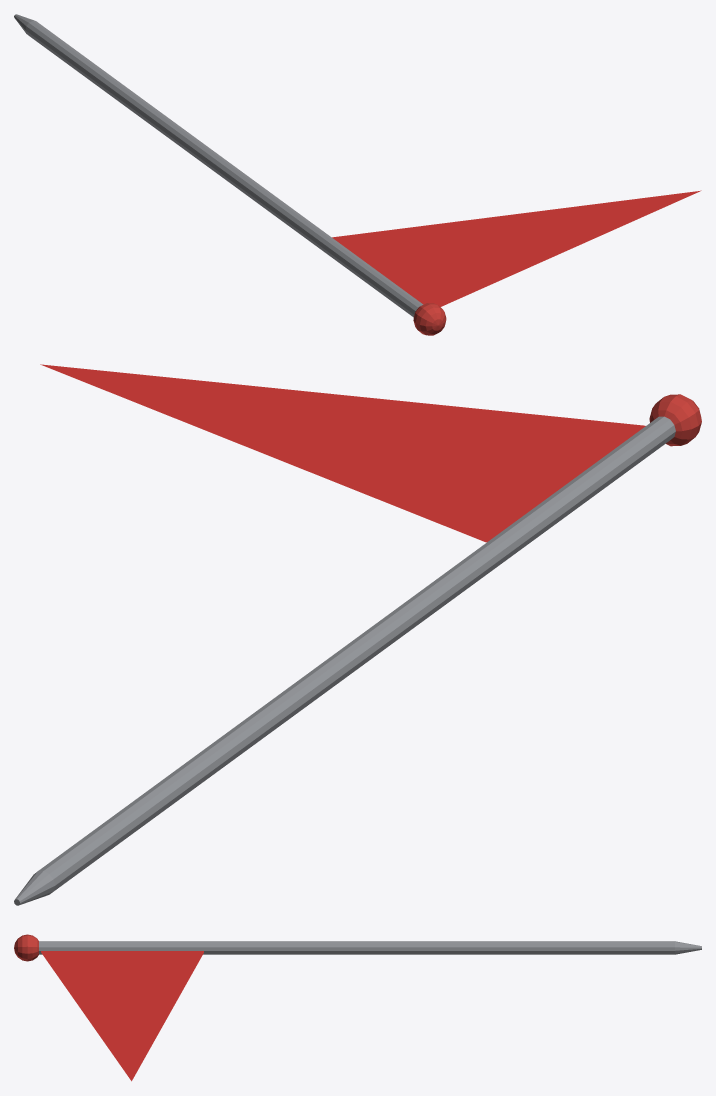
Rendered from FLAG.glb.
3 renders of one model, top to bottom at view 1: azimuth 30°, elevation 25°; view 2: azimuth 150°, elevation 25°; view 3: azimuth 270°, elevation 25°, orthographic. The views are drawn at different scales.
Visible parts, largest first — view 1: FLAG_pennant, FLAG_shaft, FLAG_cap; view 2: FLAG_pennant, FLAG_shaft, FLAG_cap, FLAG_tip; view 3: FLAG_pennant, FLAG_shaft, FLAG_cap.
Part boxes in pixels (x1,y1,x2,y2): FLAG_pennant: [332, 190, 701, 306]; FLAG_shaft: [25, 21, 423, 317]; FLAG_cap: [413, 303, 446, 335]; FLAG_pennant: [40, 364, 645, 542]; FLAG_shaft: [38, 416, 675, 892]; FLAG_cap: [649, 394, 701, 446]; FLAG_tip: [14, 871, 54, 905]; FLAG_pennant: [41, 951, 203, 1081]; FLAG_shaft: [39, 941, 674, 954]; FLAG_cap: [14, 934, 38, 961].
Size of the model in its own units: 0.1456 by 0.012 by 0.304.
